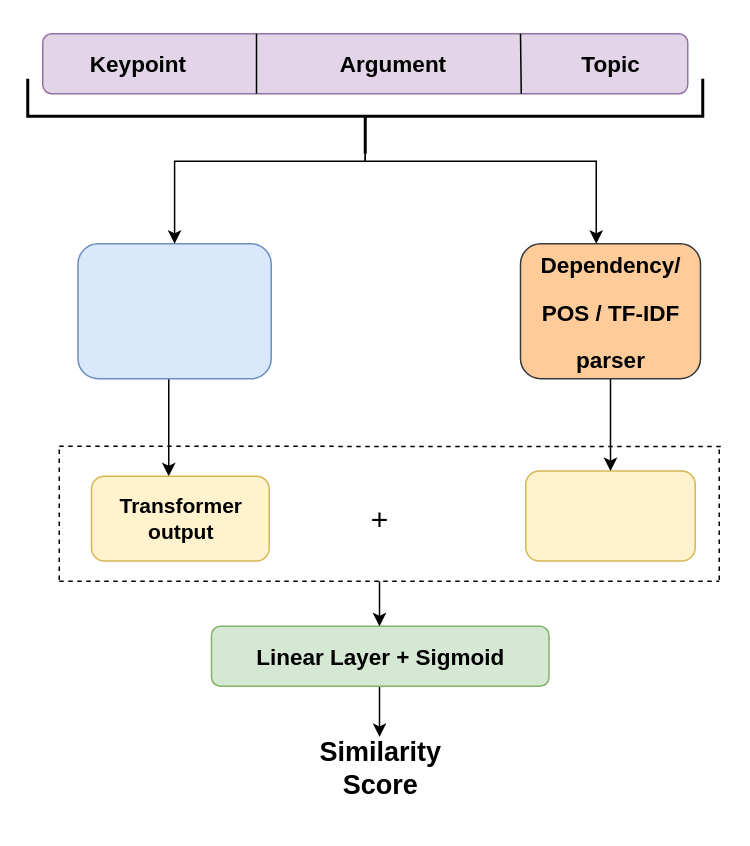
Some shapes in this 750 by 846 pixel diagram are drawn without their labels. Here are the shapes that lost their labels. From the top down, the box of each, then its label:
(76, 242, 271, 379): Transformer
(524, 470, 695, 561): Encoded Features
